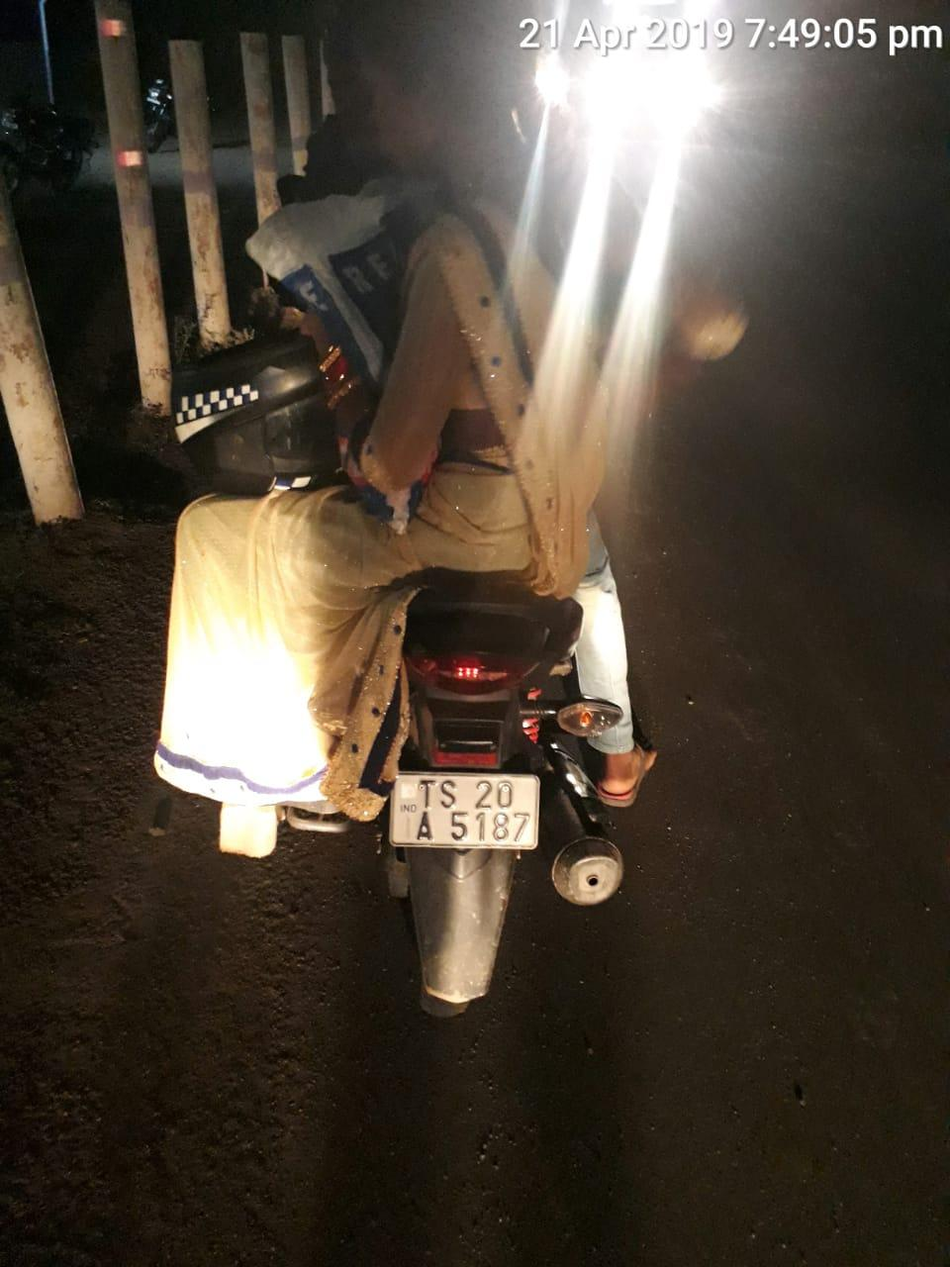plate: (371, 746, 562, 871)
